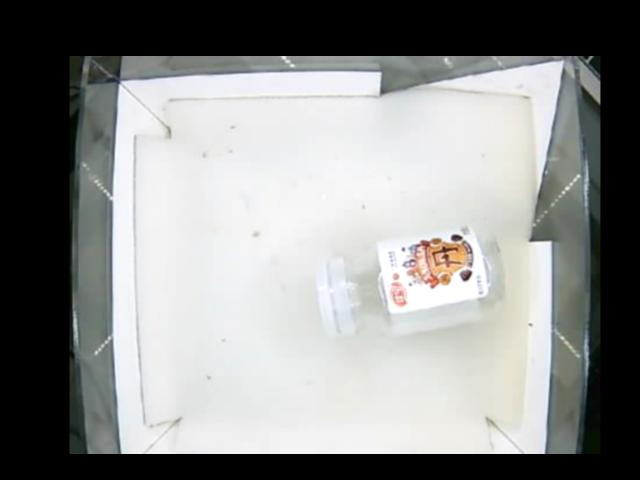Bottle: (315, 216, 507, 338)
